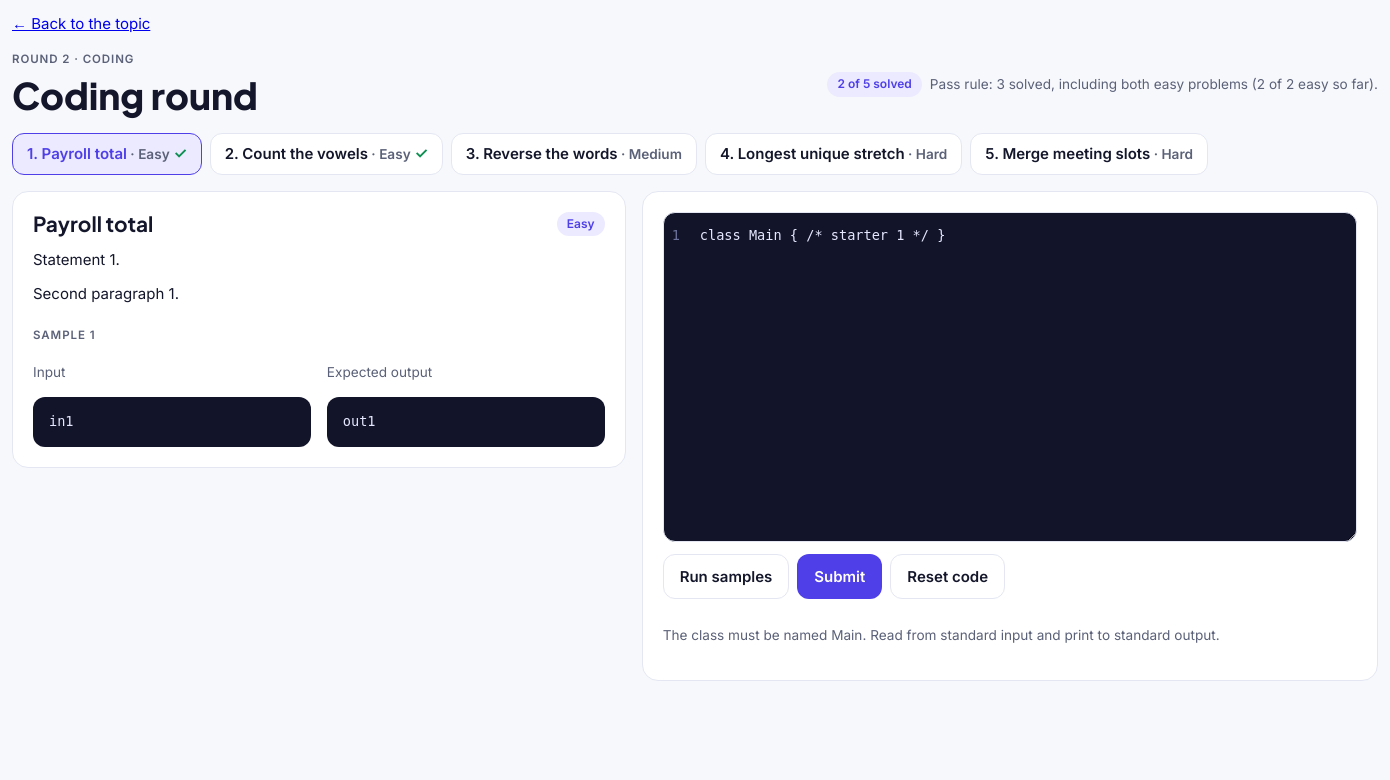
Test: solving and passing the round › passing the round shows the XP award and a link to the roadmap
Click the tab "3. Reverse the words · Medium".
click(574, 154)  # box [451,133,697,175]
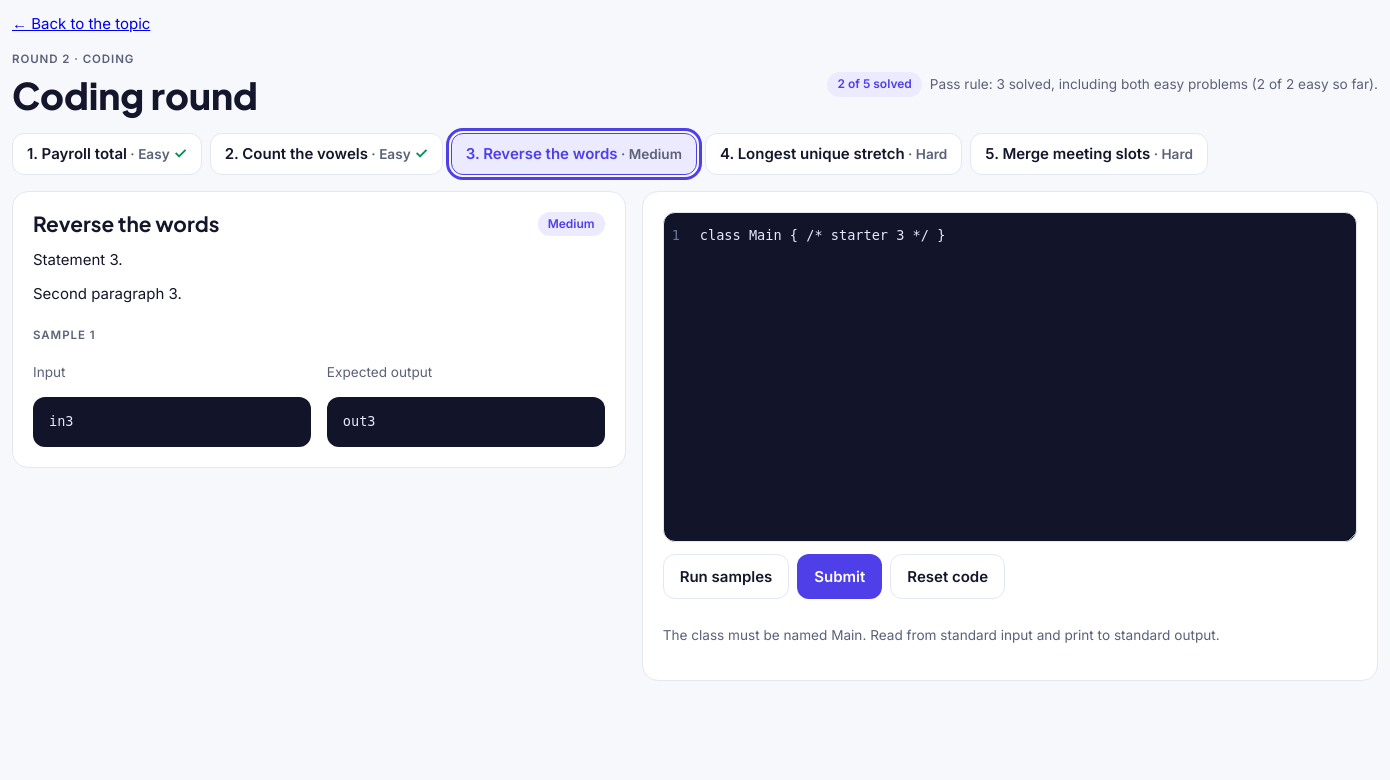
Click the button "Submit".
click(840, 577)  # box [797,554,882,599]
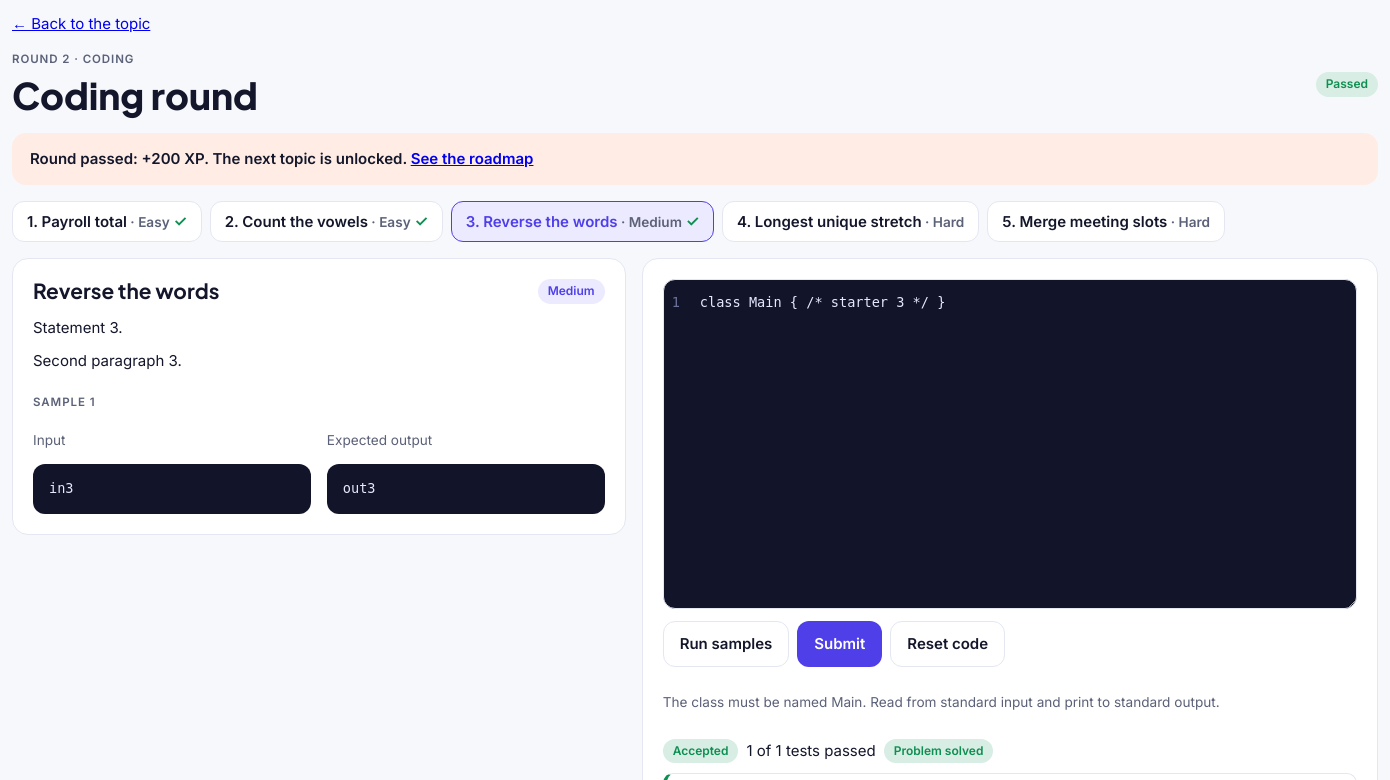
expect the message shows "+200 XP": met, box [30,149,407,168]
expect the text "Passed" is shown: met, box [1316,72,1378,97]
